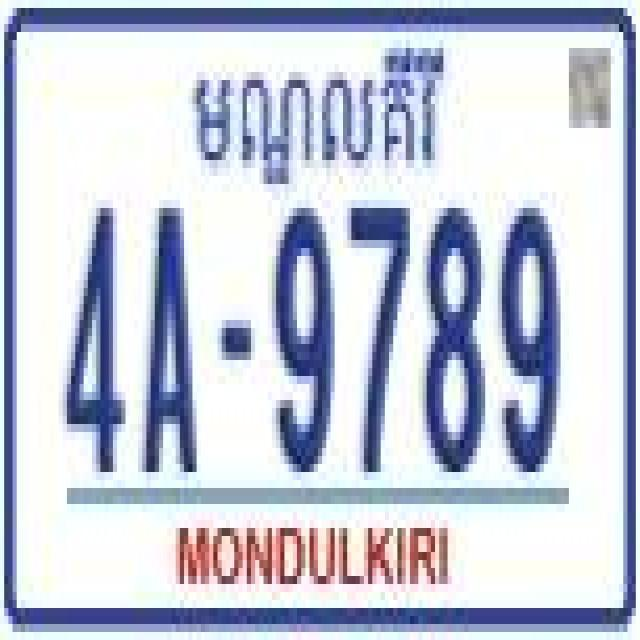Mondul_Kiri: (184, 32, 447, 189)
